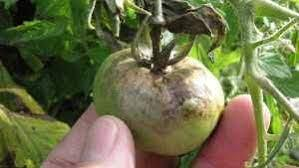tomato late blight: (77, 31, 261, 168)
